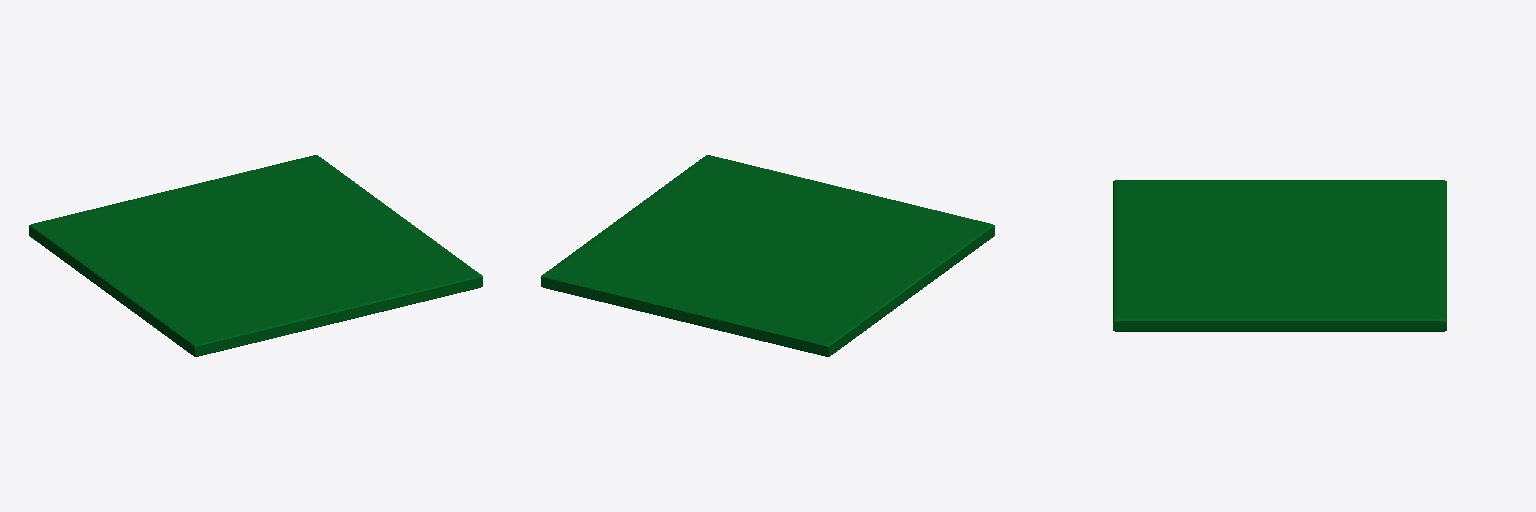
The model's file is Plataforma_inicial.obj.
3 renders of one model, left to right at view 1: azimuth 30°, elevation 25°; view 2: azimuth 150°, elevation 25°; view 3: azimuth 270°, elevation 25°, orthographic.
Visible parts, largest first — view 1: Start_piso; view 2: Start_piso; view 3: Start_piso.
Part boxes in pixels (x1,y1,x2,y2): Start_piso: (29,155,482,356); Start_piso: (541,155,994,356); Start_piso: (1113,180,1446,331).
Size of the model in its own units: 24 by 1 by 24.